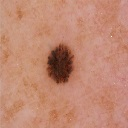Melanoma: (48, 44, 74, 82)
